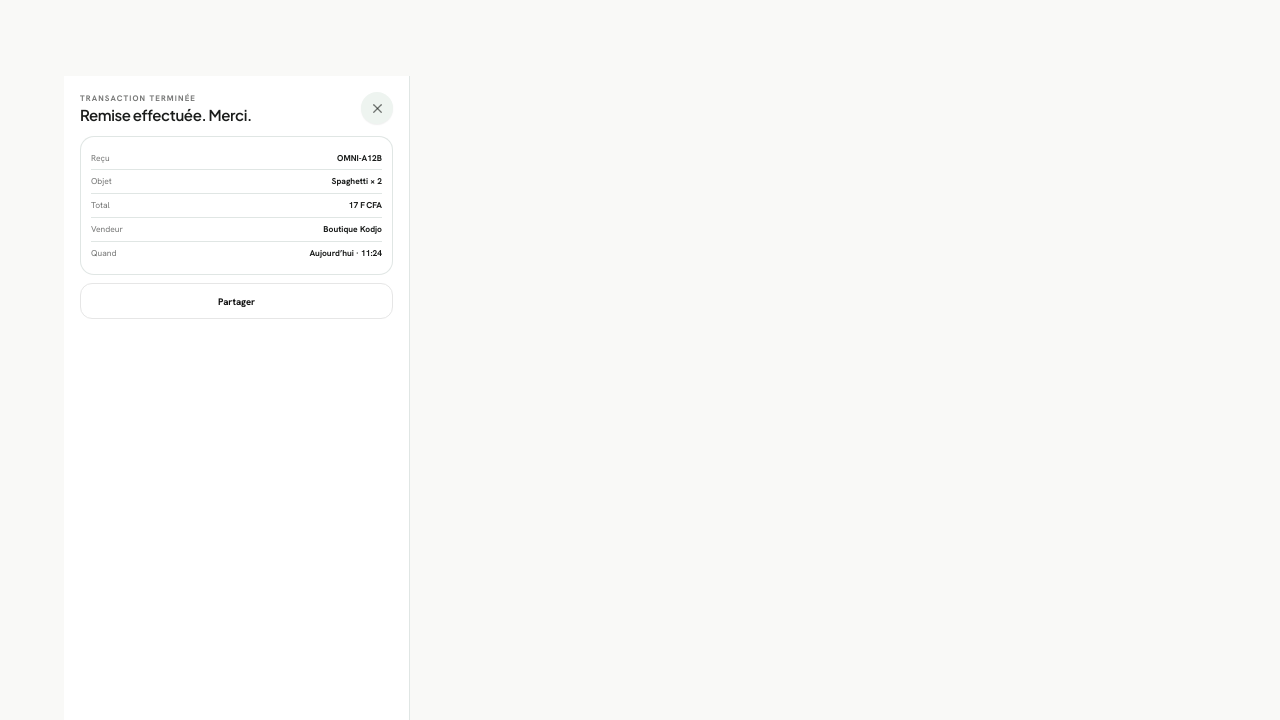
Test: transaction receipt contract (S-26 / B18, maquette recu) › shares through Web Share when present and reports honestly otherwise
Click the button with class "ghost": (236, 301) [80, 283, 393, 319]
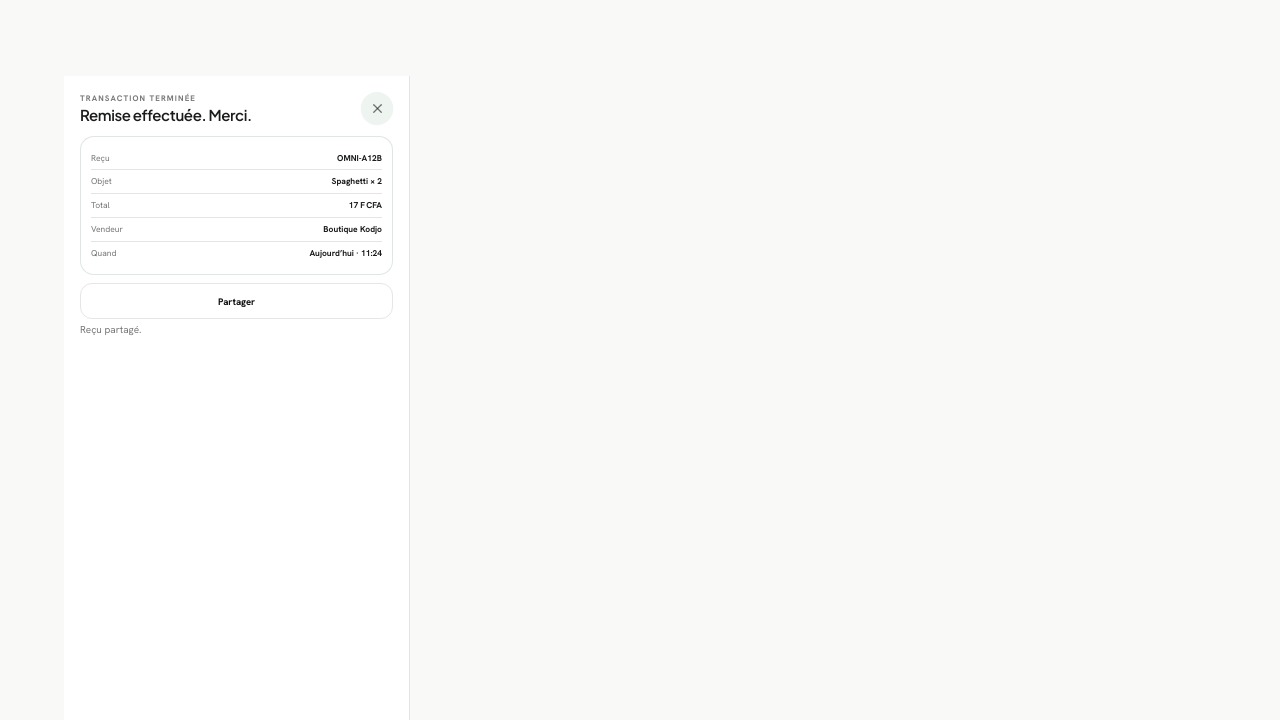
Expected: the text "Reçu partagé." is shown, [80, 323, 142, 336]
